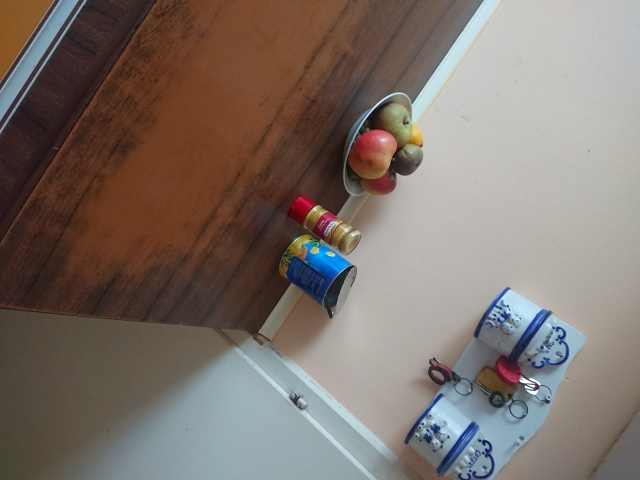Kotanyi Curry Spices Mix 70g: (285, 193, 363, 257)
